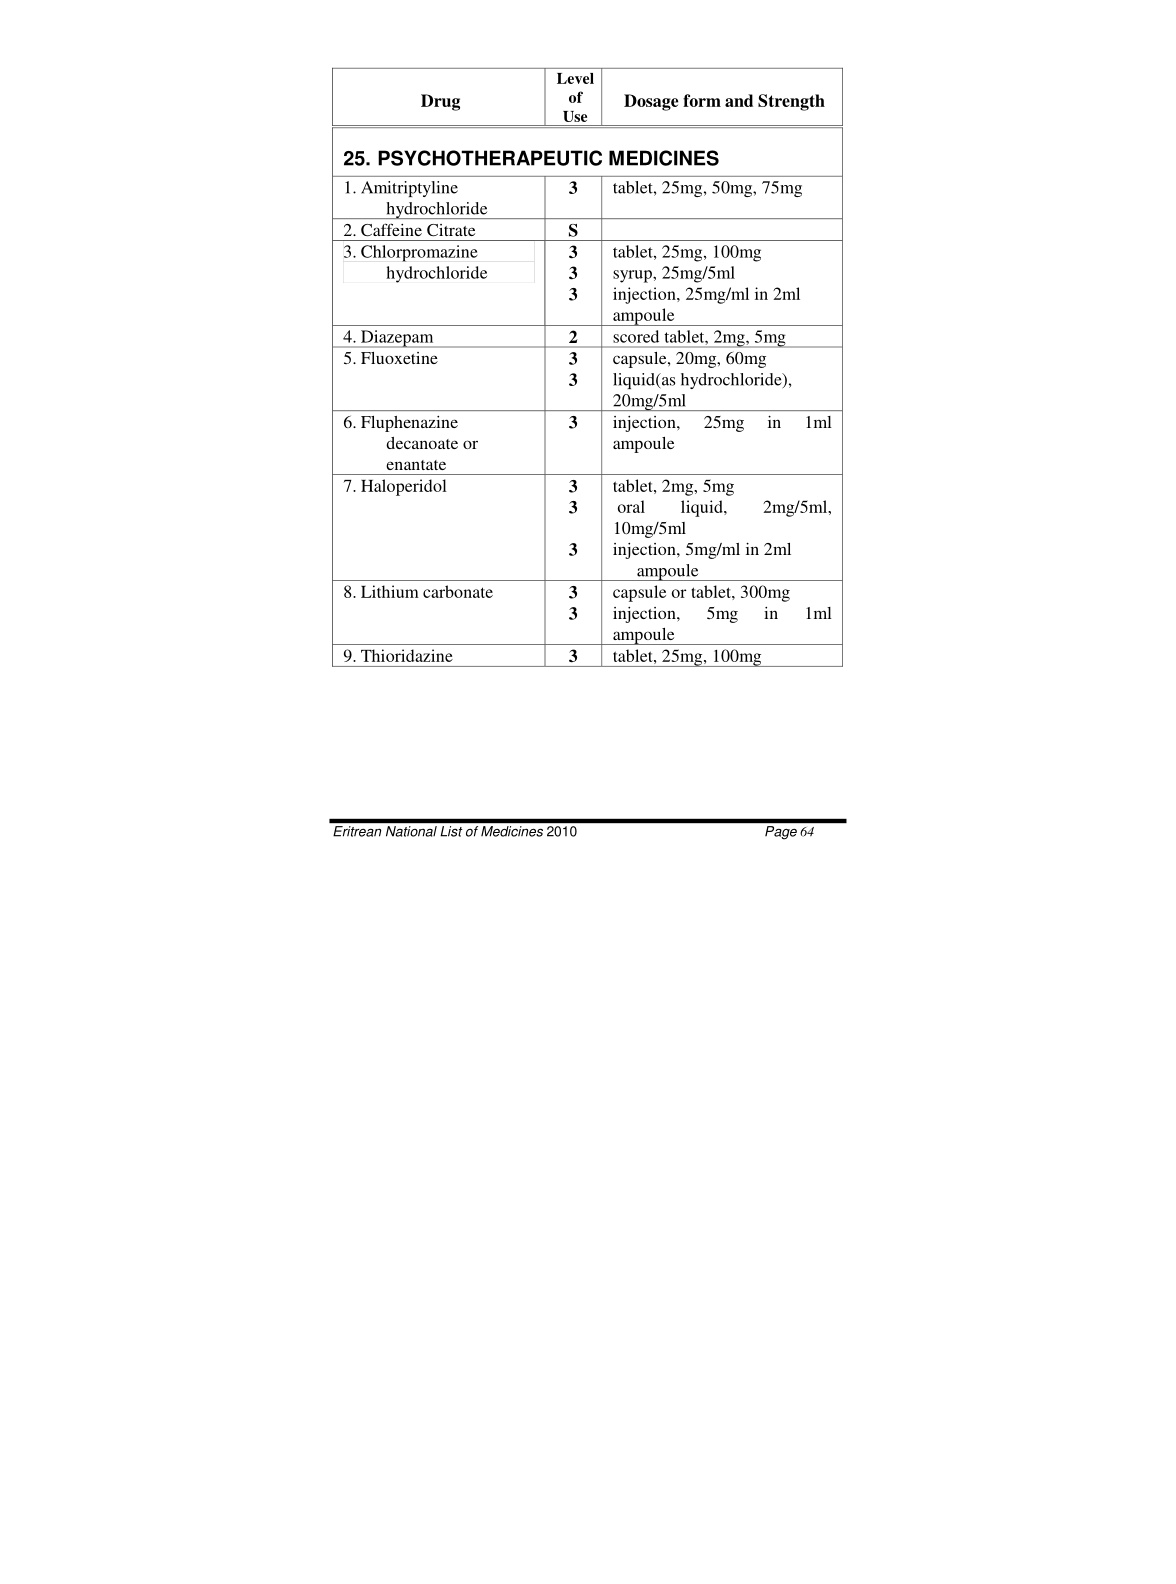merged_cells: (332, 65, 844, 667)
